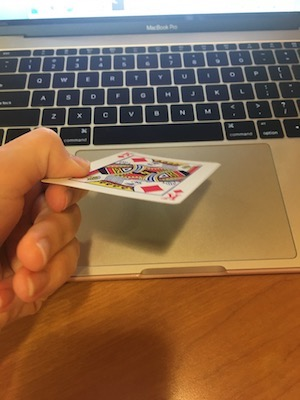KingOfDiamonds: (27, 147, 225, 214)
